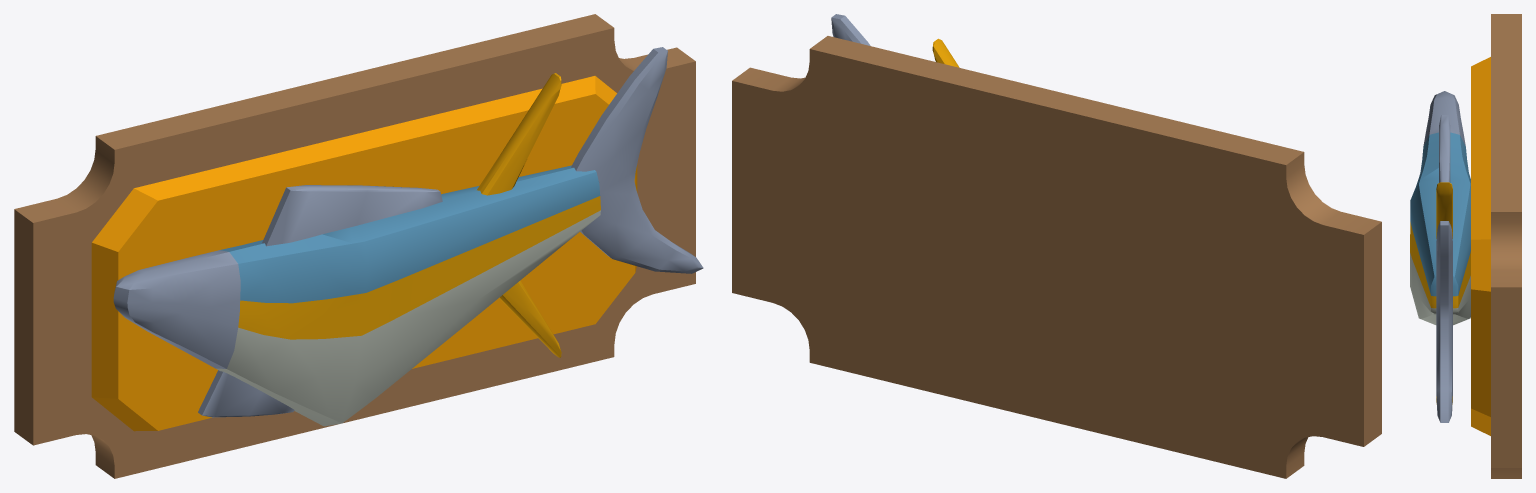
Rendered from quaternius-sushi-restaurant-decoration-fish.glb.
3 renders of one model, left to right at view 1: azimuth 30°, elevation 25°; view 2: azimuth 150°, elevation 25°; view 3: azimuth 270°, elevation 25°, orthographic. The views are drawn at different scales.
Visible parts, largest first — view 1: Decoration_Fish; view 2: Decoration_Fish; view 3: Decoration_Fish.
Boxes of the visible parts, x1=… form: Decoration_Fish: x1=14, y1=14, x2=703, y2=478; Decoration_Fish: x1=732, y1=14, x2=1381, y2=478; Decoration_Fish: x1=1410, y1=14, x2=1521, y2=478.
Bounding box in the file's own units: 3.02 × 1.44 × 0.5443.
Materials: 1 (1 with a texture image).
